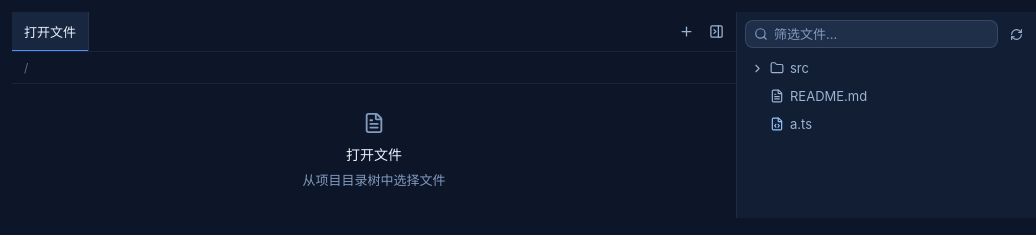
Scenario: FilesPane › filters through files.search as you type
Type "deep" into the field with placeholder "筛选文件…" at (882, 34), box top-left (774, 21), bottom-right (989, 47)
Wait 250 ms
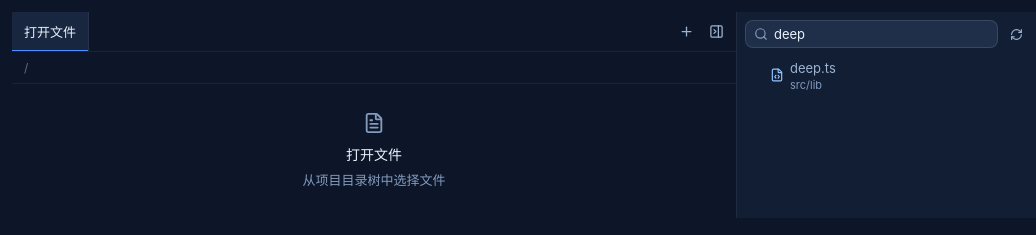
Now the text with class "file-tree-hint" reads "src/lib", box top-left (790, 78), bottom-right (822, 92)
Press Escape in the field named "筛选文件", box top-left (774, 21), bottom-right (989, 47)
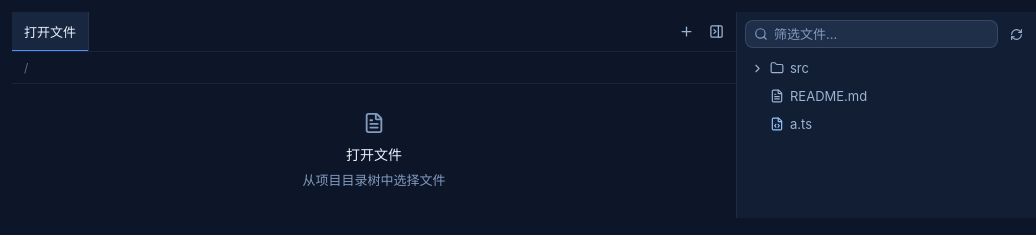
Now the field with placeholder "筛选文件…" is empty, box top-left (774, 21), bottom-right (989, 47)
Now the number of list items with class "file-tree-row" is 3, box top-left (743, 54), bottom-right (1030, 82); top-left (743, 82), bottom-right (1030, 110); top-left (743, 110), bottom-right (1030, 138)
